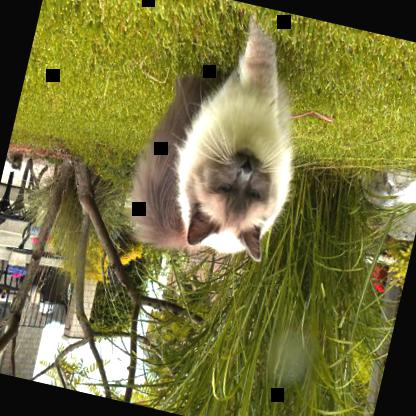cat: (120, 0, 327, 274)
